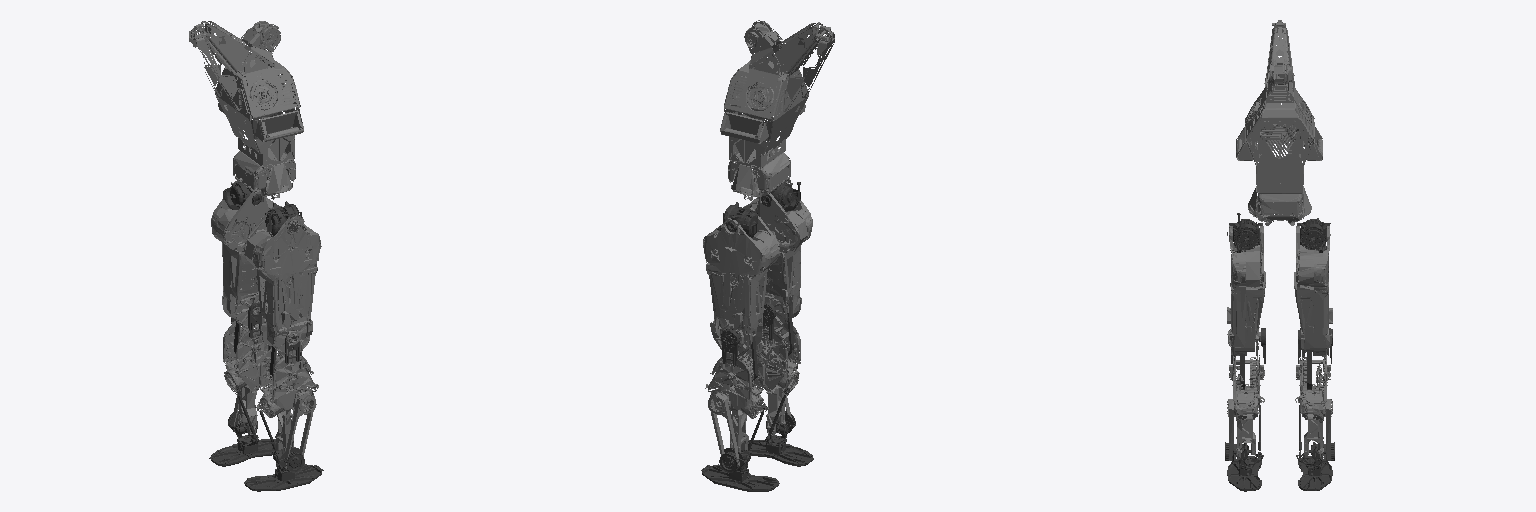
robot.urdf — draco:
<?xml version="1.0" encoding="utf-8"?>

<robot name="draco">

  <material name = "dark_gray">
    <color rgba="0.3 0.3 0.3 1"/>
  </material>

  <material name = "gray">
    <color rgba="0.5 0.5 0.5 1"/>
  </material>

  <material name = "light_blue">
    <color rgba="0.52 0.73 1 1"/>
  </material>

  <material name = "black">
    <color rgba="0 0 0 1"/>
  </material>

  <!--=============================== root (torso) ===========================-->
  <link name="torso_link">
    <visual>
      <origin rpy="0 -0 0" xyz="0 0 0"/>
      <geometry>
        <mesh filename="meshes/torso_link.stl"/>
      </geometry>
      <material name="gray"/>
    </visual>
    <inertial>
      <origin rpy="0 0 0" xyz="-31.658e-03 -0.03865e-03 125.19e-03"/>
      <mass value="6.456"/>
      <inertia ixx="178517.35e-06" ixy="-18.968e-06" ixz="28376.527e-06" iyy="181767.801e-06" iyz="-50.398e-06" izz="37147.31e-06"/>
    </inertial>
  </link>

  <!--=============================== l_hip_ie (l_hip_ie_link) ===========================-->
  <joint name="l_hip_ie" type="revolute">
    <origin rpy="0.523599 0 0" xyz="0 0.06 -0.0893782"/>
    <parent link="torso_link"/>
    <child link="l_hip_ie_link"/>
    <axis xyz="0 0 1"/>
    <limit effort="44" lower="-0.872665" upper="0.872665" velocity="8.1"/>
    <joint_properties friction="0.0"/>
  </joint>
  <link name="l_hip_ie_link">
    <visual>
      <origin rpy="0 0 0" xyz="0 0 0"/>
      <geometry>
        <mesh filename="meshes/l_hip_ie_link.stl"/>
      </geometry>
      <material name="dark_gray"/>
    </visual>
    <inertial>
      <origin rpy="0 0 0" xyz="-0.00363703 0.00531284 -0.0260463"/>
      <mass value="0.162"/>
      <inertia ixx="136.77063e-06" ixy="-12.07781e-06" ixz="18.69536e-06" iyy="229.3943e-06" iyz="26.13639e-06" izz="196.36211e-06"/>
    </inertial>
  </link>

  <!--=============================== l_hip_aa (l_hip_aa_link) ===========================-->
  <joint name="l_hip_aa" type="revolute">
    <origin rpy="-0.523599 0 0" xyz="0 0 -0.07"/>
    <parent link="l_hip_ie_link"/>
    <child link="l_hip_aa_link"/>
    <axis xyz="1 0 0"/>
    <limit effort="56" lower="-0.261799" upper="0.785398" velocity="5.1"/>
    <joint_properties friction="0.0"/>
  </joint>
  <link name="l_hip_aa_link">
    <visual>
      <origin rpy="0 -0 0" xyz="0 0 0"/>
      <geometry>
        <mesh filename="meshes/l_hip_aa_link.stl"/>
      </geometry>
      <material name="dark_gray"/>
    </visual>
    <inertial>
      <origin rpy="0 0 0" xyz="-0.000880455 0.00182239 -0.00110234"/>
      <mass value="0.912"/>
      <inertia ixx="870.08327e-06" ixy="36.28214e-06" ixz="12.89916e-06" iyy="865.69602e-06" iyz="26.99886e-06" izz="1023.81075e-06"/>
    </inertial>
  </link>

  <!--=============================== l_hip_fe (l_hip_fe_link) ===========================-->
  <joint name="l_hip_fe" type="revolute">
    <origin rpy="0 0 0" xyz="0 0 0"/>
    <parent link="l_hip_aa_link"/>
    <child link="l_hip_fe_link"/>
    <axis xyz="0 1 0"/>
    <limit effort="59.6" lower="-1.52716" upper="0.523599" velocity="36.7"/>
    <joint_properties friction="0.0"/>
  </joint>
  <link name="l_hip_fe_link">
    <visual>
      <origin rpy="0 0 0" xyz="0 0 0"/>
      <geometry>
        <mesh filename="meshes/l_hip_fe_link.stl"/>
      </geometry>
      <material name="gray"/>
    </visual>
    <inertial>
      <origin rpy="0 0 0" xyz="0.00193727 -0.00408989 -0.1636"/>
      <mass value="5.0"/>
      <inertia ixx="61021.51e-06" ixy="-47.486e-06" ixz="578.602e-06" iyy="67907.577e-06" iyz="3610.535e-06" izz="14521.809e-06"/>
    </inertial>
  </link>

  <!--=============================== l_knee_fe_jp (l_knee_fe_lp) ===========================-->
  <joint name="l_knee_fe_jp" type="revolute">
    <origin rpy="0 0 0" xyz="0 0 -0.324231"/>
    <parent link="l_hip_fe_link"/>
    <child link="l_knee_fe_lp"/>
    <axis xyz="0 1 0"/>
    <limit effort="40.85" lower="-0.0872665" upper="1.52716" velocity="13.35"/>
    <joint_properties friction="0.0"/>
  </joint>
  <link name="l_knee_fe_lp">
    <visual>
      <origin rpy="0 -0 0" xyz="0 0 0"/>
      <geometry>
        <mesh filename="meshes/l_knee_fe_lp.stl"/>
      </geometry>
      <material name="dark_gray"/>
    </visual>
    <inertial>
      <!--<origin rpy="0 0 0" xyz="-7.68312e-09 0.0147631 -0.0260394"/>-->
      <origin rpy="0 0 0" xyz="0 0 0"/>
      <mass value="0.211"/>
      <inertia ixx="778.97283e-06" ixy="0.00028e-06" ixz="0.00028e-06" iyy="447.80329e-06" iyz="3.84258e-06" izz="484.80585e-06"/>
    </inertial>
  </link>

  <!--=============================== l_knee_adj (l_knee_adj_link) ===========================-->
  <!--<joint name="l_knee_adj" type="fixed">-->
    <!--<origin rpy="0 0 0" xyz="0 0 -0.0557693"/>-->
    <!--<parent link="l_knee_fe_lp"/>-->
    <!--<child link="l_knee_adj_link"/>-->
  <!--</joint>-->
  <!--<link name="l_knee_adj_link">-->
    <!--<visual>-->
      <!--<origin rpy="0 0 0" xyz="0 0 0"/>-->
      <!--<geometry>-->
        <!--<mesh filename="meshes/l_knee_adj_link.stl"/>-->
      <!--</geometry>-->
      <!--<material name="dark_gray"/>-->
    <!--</visual>-->
    <!--<inertial>-->
      <!--<origin rpy="0 0 0" xyz="0.00907506 -0.006495 -0.017049"/>-->
      <!--<mass value="0.156"/>-->
      <!--<inertia ixx="461.2405e-06" ixy="20.74097e-06" ixz="-22.60628e-06" iyy="252.3969e-06" iyz="36.06734e-06" izz="342.40347e-06"/>-->
    <!--</inertial>-->
  <!--</link>-->

  <!--=============================== l_knee_fe_jd (l_knee_fe_ld) ===========================-->
  <!-- NOTE: If you're NOT using Apptronik's simulator, please uncomment line 716 and use that, instead of line 717 -->
  <joint name="l_knee_fe_jd" type="revolute">
    <!-- <origin xyz="${0 + 0*l_knee_adj_param} ${0.00599 + 0.0537 * l_knee_adj_param} ${-0.1115386 + -0.9985 * l_knee_adj_param}" rpy="-1.90275e-16 1.31839e-16 2.80923e-17" /> -->
    <origin rpy="0 0 0" xyz="0.0 0.0 -0.1117386"/>
    <parent link="l_knee_fe_lp"/>
    <child link="l_knee_fe_ld"/>
    <axis xyz="0 1 0"/>
    <limit effort="40.85" lower="-0.0872665" upper="1.52716" velocity="13.35"/>
  </joint>
  <link name="l_knee_fe_ld">
    <visual>
      <origin rpy="0 -0 0" xyz="0 0 0"/>
      <geometry>
        <mesh filename="meshes/l_knee_fe_ld.stl"/>
      </geometry>
      <material name="gray"/>
    </visual>
    <inertial>
      <origin rpy="0 0 0" xyz="0.00588785 0.0041898 -0.0805522"/>
      <mass value="2.5"/>
      <inertia ixx="9986.75806e-06" ixy="-264.73832e-06" ixz="40.35627e-06" iyy="11291.38892e-06" iyz="725.40626e-06" izz="4054.98067e-06"/>
    </inertial>
  </link>

  <!--=============================== l_ankle_fe (l_ankle_fe_link) ===========================-->
  <!-- NOTE: If you're NOT using Apptronik's simulator, please uncomment line 753 and use that, instead of line 754 -->
  <joint name="l_ankle_fe" type="revolute">
    <!-- <origin xyz="-6.26776e-17 -1.80411e-16 -0.248231" rpy="2.01226e-15 1.44763e-15 -7.77124e-18" /> -->
    <origin rpy="0 0 0" xyz="0 0.00599 -0.248231"/>
    <parent link="l_knee_fe_ld"/>
    <child link="l_ankle_fe_link"/>
    <axis xyz="0 1 0"/>
    <limit effort="44" lower="-1.5708" upper="1.0472" velocity="8.1"/>
    <joint_properties friction="0.0"/>
  </joint>
  <link name="l_ankle_fe_link">
    <visual>
      <origin rpy="0 -0 0" xyz="0 0 0"/>
      <geometry>
        <mesh filename="meshes/l_ankle_fe_link.stl"/>
      </geometry>
      <material name="dark_gray"/>
    </visual>
    <inertial>
      <origin rpy="0 0 0" xyz="-0.000143954 0.0286126 -0.000732972"/>
      <mass value="0.172"/>
      <inertia ixx="83.52192e-06" ixy="-0.09751e-06" ixz="2.33379e-06" iyy="54.43219e-06" iyz="0.68506e-06" izz="95.29953e-06"/>
    </inertial>
  </link>

  <!--=============================== l_ankle_ie (l_ankle_ie_link) ===========================-->
  <joint name="l_ankle_ie" type="revolute">
    <origin rpy="0 0 0" xyz="0 0 0"/>
    <parent link="l_ankle_fe_link"/>
    <child link="l_ankle_ie_link"/>
    <axis xyz="1 0 0"/>
    <limit effort="30" lower="-0.785398" upper="0.261799" velocity="11.1"/>
    <joint_properties friction="0.0"/>
  </joint>
  <link name="l_ankle_ie_link">
    <visual>
      <origin rpy="0 -0 0" xyz="0 0 0"/>
      <geometry>
        <mesh filename="meshes/l_ankle_ie_link.stl"/>
      </geometry>
      <material name="dark_gray"/>
    </visual>
    <collision>
      <origin rpy="0 -0 0" xyz="0 -0.005 -0.046"/>
      <geometry>
        <box size="0.2 0.1 0.0591"/>
      </geometry>
    </collision>
    <inertial>
      <origin rpy="0 0 0" xyz="-0.00321864 -0.00678326 -0.0440152"/>
      <mass value="0.478"/>
      <inertia ixx="1064.65492e-06" ixy="-25.85803e-06" ixz="148.2107e-06" iyy="1820.44891e-06" iyz="145.81372e-06" izz="1268.38379e-06"/>
    </inertial>
  </link>

  <!--=============================== l_foot_contact_frame (l_foot_contact) ===========================-->
  <joint name="l_foot_contact_frame" type="fixed">
    <origin rpy="0 0 0" xyz="0 0 -0.076"/>
    <parent link="l_ankle_ie_link"/>
    <child link="l_foot_contact"/>
  </joint>
  <link name="l_foot_contact">
    <inertial>
      <origin rpy="0 0 0" xyz="0 0 0"/>
      <mass value="1e-9"/>
      <inertia ixx="0" ixy="0" ixz="0" iyy="0" iyz="0" izz="0"/>
    </inertial>
  </link>

  <!--=============================== r_hip_ie (r_hip_ie_link) ===========================-->
  <joint name="r_hip_ie" type="revolute">
    <origin rpy="-0.523599 0 0" xyz="0 -0.06 -0.0893782"/>
    <parent link="torso_link"/>
    <child link="r_hip_ie_link"/>
    <axis xyz="0 0 1"/>
    <limit effort="44" lower="-0.872665" upper="0.872665" velocity="8.1"/>
    <joint_properties friction="0.0"/>
  </joint>
  <link name="r_hip_ie_link">
    <visual>
      <origin rpy="0 -0 0" xyz="0 0 0"/>
      <geometry>
        <mesh filename="meshes/r_hip_ie_link.stl"/>
      </geometry>
      <material name="dark_gray"/>
    </visual>
    <inertial>
      <origin rpy="0 0 0" xyz="-0.00363703 -0.00531284 -0.0260652"/>
      <mass value="0.162"/>
      <inertia ixx="136.77063e-06" ixy="12.07781e-06" ixz="18.69536e-06" iyy="229.3943e-06" iyz="-26.13639e-06" izz="196.36211e-06"/>
    </inertial>
  </link>

  <!--=============================== r_hip_aa (r_hip_aa_link) ===========================-->
  <joint name="r_hip_aa" type="revolute">
    <origin rpy="0.523599 0 0" xyz="0 0 -0.07"/>
    <parent link="r_hip_ie_link"/>
    <child link="r_hip_aa_link"/>
    <axis xyz="1 0 0"/>
    <limit effort="56" lower="-0.785398" upper="0.261799" velocity="5.1"/>
    <joint_properties friction="0.0"/>
  </joint>
  <link name="r_hip_aa_link">
    <visual>
      <origin rpy="0 -0 0" xyz="0 0 0"/>
      <geometry>
        <mesh filename="meshes/r_hip_aa_link.stl"/>
      </geometry>
      <material name="dark_gray"/>
    </visual>
    <inertial>
      <origin rpy="0 0 0" xyz="-0.000880446 -0.00180849 -0.00110234"/>
      <mass value="0.912"/>
      <inertia ixx="8.7008327e-04" ixy="-3.628214e-05" ixz="1.289916e-05" iyy="8.6569602e-04" iyz="-2.699886e-05" izz="1.02381075e-03"/>
    </inertial>
  </link>

  <!--=============================== r_hip_fe (r_hip_fe_link) ===========================-->
  <joint name="r_hip_fe" type="revolute">
    <origin rpy="0 0 0" xyz="0 0 0"/>
    <parent link="r_hip_aa_link"/>
    <child link="r_hip_fe_link"/>
    <axis xyz="0 1 0"/>
    <limit effort="59.6" lower="-1.52716" upper="0.523599" velocity="36.7"/>
    <joint_properties friction="0.0"/>
  </joint>
  <link name="r_hip_fe_link">
    <visual>
      <origin rpy="0 -0 0" xyz="0 0 0"/>
      <geometry>
        <mesh filename="meshes/r_hip_fe_link.stl"/>
      </geometry>
      <material name="gray"/>
    </visual>
    <inertial>
      <origin rpy="0 0 0" xyz="0.00193727 0.00408989 -0.1636"/>
      <mass value="5.0"/>
      <inertia ixx="61021.51e-06" ixy="47.486e-06" ixz="578.602e-06" iyy="67907.577e-06" iyz="-3610.535e-06" izz="14521.809e-06"/>
    </inertial>
  </link>

  <!--=============================== r_knee_fe_jp (r_knee_fe_lp) ===========================-->
  <joint name="r_knee_fe_jp" type="revolute">
    <origin rpy="0 0 0" xyz="0 0 -0.324231"/>
    <parent link="r_hip_fe_link"/>
    <child link="r_knee_fe_lp"/>
    <axis xyz="0 1 0"/>
    <limit effort="40.85" lower="-0.0872665" upper="1.52716" velocity="13.35"/>
    <joint_properties friction="0.0"/>
  </joint>
  <link name="r_knee_fe_lp">
    <visual>
      <origin rpy="0 -0 0" xyz="0 0 0"/>
      <geometry>
        <mesh filename="meshes/r_knee_fe_lp.stl"/>
      </geometry>
      <material name="dark_gray"/>
    </visual>
    <inertial>
      <!--<origin rpy="0 0 0" xyz="4.68497e-09 -0.0147631 -0.0260394"/>-->
      <origin rpy="0 0 0" xyz="0 0 0"/>
      <mass value="0.211"/>
      <inertia ixx="778.97283e-06" ixy="0.00028e-06" ixz="-0.00028e-06" iyy="447.80329e-06" iyz="-3.84258e-06" izz="484.80585e-06"/>
    </inertial>
  </link>

  <!--=============================== r_knee_adj (r_knee_adj_link) ===========================-->
  <!--<joint name="r_knee_adj" type="fixed">-->
    <!--<origin rpy="0 0 0" xyz="0 0 -0.0557693"/>-->
    <!--<parent link="r_knee_fe_lp"/>-->
    <!--<child link="r_knee_adj_link"/>-->
  <!--</joint>-->
  <!--<link name="r_knee_adj_link">-->
    <!--<visual>-->
      <!--<origin rpy="0 -0 0" xyz="0 0 0"/>-->
      <!--<geometry>-->
        <!--<mesh filename="meshes/r_knee_adj_link.stl"/>-->
      <!--</geometry>-->
      <!--<material name="dark_gray"/>-->
    <!--</visual>-->
    <!--<inertial>-->
      <!--<origin rpy="0 0 0" xyz="0.00907522 0.00649535 -0.0170486"/>-->
      <!--<mass value="0.156"/>-->
      <!--<inertia ixx="461.2405e-06" ixy="-20.74097e-06" ixz="-22.60628e-06" iyy="252.3969e-06" iyz="-36.06734e-06" izz="342.40347e-06"/>-->
    <!--</inertial>-->
  <!--</link>-->

  <!--=============================== r_knee_fe_jd (r_knee_fe_ld) ===========================-->
  <!-- NOTE: If you're NOT using Apptronik's simulator, please uncomment line 1019 and use that, instead of line 1020 -->
  <joint name="r_knee_fe_jd" type="revolute">
    <!-- <origin xyz="${0 + 0 * r_knee_adj_param} ${-0.006 + -0.0537 * r_knee_adj_param} ${-0.1115386 + -0.9985 * r_knee_adj_param}" rpy="1.06003e-30 6.64446e-33 -5.70613e-32" /> -->
    <origin rpy="0 0 0" xyz="0 0 -0.1117386"/>
    <parent link="r_knee_fe_lp"/>
    <child link="r_knee_fe_ld"/>
    <axis xyz="0 1 0"/>
    <limit effort="40.85" lower="-0.0872665" upper="1.52716" velocity="13.35"/>
    <joint_properties friction="0.0"/>
  </joint>
  <link name="r_knee_fe_ld">
    <visual>
      <origin rpy="0 -0 0" xyz="0 0 0"/>
      <geometry>
        <mesh filename="meshes/r_knee_fe_ld.stl"/>
      </geometry>
      <material name="gray"/>
    </visual>
    <inertial>
      <origin rpy="0 0 0" xyz="0.00590237 -0.00420298 -0.0805676"/>
      <mass value="2.5"/>
      <inertia ixx="9986.75806e-06" ixy="264.73832e-06" ixz="40.35627e-06" iyy="11291.38892e-06" iyz="-725.40626e-06" izz="4054.98067e-06"/>
    </inertial>
  </link>

  <!--=============================== r_ankle_fe (r_ankle_fe_link) ===========================-->
  <!-- NOTE: If you're NOT using Apptronik's simulator, please uncomment line 1057 and use that, instead of line 1058 -->
  <joint name="r_ankle_fe" type="revolute">
    <!-- <origin xyz="-1.70255e-16 -9.71445e-17 -0.248231" rpy="-1.09947e-29 -6.39256e-14 1.4244e-16" /> -->
    <origin rpy="0 0 0" xyz="0 -0.006 -0.248231"/>
    <parent link="r_knee_fe_ld"/>
    <child link="r_ankle_fe_link"/>
    <axis xyz="0 1 0"/>
    <limit effort="44" lower="-1.5708" upper="1.0472" velocity="8.1"/>
    <joint_properties friction="0.0"/>
  </joint>
  <link name="r_ankle_fe_link">
    <visual>
      <origin rpy="0 -0 0" xyz="0 0 0"/>
      <geometry>
        <mesh filename="meshes/r_ankle_fe_link.stl"/>
      </geometry>
      <material name="dark_gray"/>
    </visual>
    <inertial>
      <origin rpy="0 0 0" xyz="-0.00026965 -0.0286127 -0.000732675"/>
      <mass value="0.172"/>
      <inertia ixx="83.52192e-06" ixy="0.09751e-06" ixz="2.33379e-06" iyy="54.43219e-06" iyz="-0.68506e-06" izz="95.29953e-06"/>
    </inertial>
  </link>

  <!--=============================== r_ankle_ie (r_ankle_ie_link) ===========================-->
  <joint name="r_ankle_ie" type="revolute">
    <origin rpy="0 0 0" xyz="0 0 0"/>
    <parent link="r_ankle_fe_link"/>
    <child link="r_ankle_ie_link"/>
    <axis xyz="1 0 0"/>
    <limit effort="30" lower="-0.261799" upper="0.785398" velocity="11.1"/>
    <joint_properties friction="0.0"/>
  </joint>
  <link name="r_ankle_ie_link">
    <visual>
      <origin rpy="0 -0 0" xyz="0 0 0"/>
      <geometry>
        <mesh filename="meshes/r_ankle_ie_link.stl"/>
      </geometry>
      <material name="dark_gray"/>
    </visual>
    <collision>
      <origin rpy="0 -0 0" xyz="0 0.005 -0.046"/>
      <geometry>
        <box size="0.2 0.1 0.0591"/>
      </geometry>
    </collision>
    <inertial>
      <origin rpy="0 0 0" xyz="-0.00321562 0.00678152 -0.0440164"/>
      <mass value="0.478"/>
      <inertia ixx="1064.65492e-06" ixy="25.85803e-06" ixz="148.2107e-06" iyy="1820.44891e-06" iyz="-145.81372e-06" izz="1268.38379e-06"/>
    </inertial>
  </link>

  <!--=============================== r_foot_contact_frame (r_foot_contact) ===========================-->
  <joint name="r_foot_contact_frame" type="fixed">
    <origin rpy="0 0 0" xyz="0 0 -0.076"/>
    <parent link="r_ankle_ie_link"/>
    <child link="r_foot_contact"/>
  </joint>
  <link name="r_foot_contact">
    <inertial>
      <origin rpy="0 0 0" xyz="0 0 0"/>
      <mass value="1e-9"/>
      <inertia ixx="0" ixy="0" ixz="0" iyy="0" iyz="0" izz="0"/>
    </inertial>
  </link>

  <!--=============================== torso_imu_frame (torso_imu) ===========================-->
  <joint name="torso_imu_frame" type="fixed">
    <origin rpy="3.14159 0 3.14159" xyz="0 0 -0.09"/>
    <parent link="torso_link"/>
    <child link="torso_imu"/>
    <axis xyz="0 0 0"/>
  </joint>
  <link name="torso_imu">
    <inertial>
      <origin rpy="0 0 0" xyz="0 0 0"/>
      <mass value="1e-9"/>
      <inertia ixx="0" ixy="0" ixz="0" iyy="0" iyz="0" izz="0"/>
    </inertial>
  </link>
</robot>

--- What the picture shows (computed from the rendered views, not written in the file) ---
3 views of the same robot in one strip: view 1: azimuth 30°, elevation 25°; view 2: azimuth 150°, elevation 25°; view 3: azimuth 270°, elevation 25° (orthographic).
Robot: draco — 18 links, 17 joints (14 revolute, 3 fixed); root link torso_link; default pose: all joints at 0.
Visible links, largest first — view 1: torso_link, r_hip_fe_link, l_hip_fe_link, r_knee_fe_ld, l_knee_fe_ld, l_ankle_ie_link, r_ankle_ie_link, r_hip_aa_link, l_hip_aa_link; view 2: torso_link, l_hip_fe_link, r_hip_fe_link, l_knee_fe_ld, r_knee_fe_ld, l_ankle_ie_link, r_ankle_ie_link, l_hip_aa_link, l_knee_fe_lp, r_hip_aa_link, r_knee_fe_lp; view 3: torso_link, r_hip_fe_link, l_hip_fe_link, r_knee_fe_ld, l_knee_fe_ld, r_ankle_ie_link, l_ankle_ie_link, r_hip_aa_link, l_hip_aa_link.
Boxes of the visible links, x1,y1,x2,y2 form: torso_link: [189, 21, 303, 199]; r_hip_fe_link: [243, 206, 321, 355]; l_hip_fe_link: [211, 181, 273, 328]; r_knee_fe_ld: [254, 348, 318, 468]; l_knee_fe_ld: [223, 321, 271, 434]; l_ankle_ie_link: [209, 389, 275, 466]; r_ankle_ie_link: [244, 408, 323, 491]; r_hip_aa_link: [265, 201, 306, 236]; l_hip_aa_link: [223, 180, 261, 209]; torso_link: [720, 20, 834, 200]; l_hip_fe_link: [703, 205, 779, 356]; r_hip_fe_link: [750, 178, 812, 328]; l_knee_fe_ld: [705, 348, 769, 469]; r_knee_fe_ld: [756, 322, 800, 435]; l_ankle_ie_link: [701, 406, 779, 491]; r_ankle_ie_link: [747, 389, 813, 466]; l_hip_aa_link: [717, 202, 758, 237]; l_knee_fe_lp: [721, 328, 757, 381]; r_hip_aa_link: [761, 181, 800, 210]; r_knee_fe_lp: [761, 300, 793, 355]; torso_link: [1236, 20, 1322, 225]; r_hip_fe_link: [1227, 223, 1265, 356]; l_hip_fe_link: [1294, 226, 1332, 357]; r_knee_fe_ld: [1227, 355, 1264, 460]; l_knee_fe_ld: [1295, 354, 1332, 460]; r_ankle_ie_link: [1227, 400, 1263, 491]; l_ankle_ie_link: [1296, 399, 1332, 490]; r_hip_aa_link: [1230, 213, 1262, 252]; l_hip_aa_link: [1297, 218, 1330, 252].
Size in the robot's own frame: 0.3421 by 0.3114 by 1.34 metres.
Meshes: 15 distinct files referenced, 13 mesh visuals loaded (13 binary STL); not drawn: 2 (reference not matched to a file when rendering).